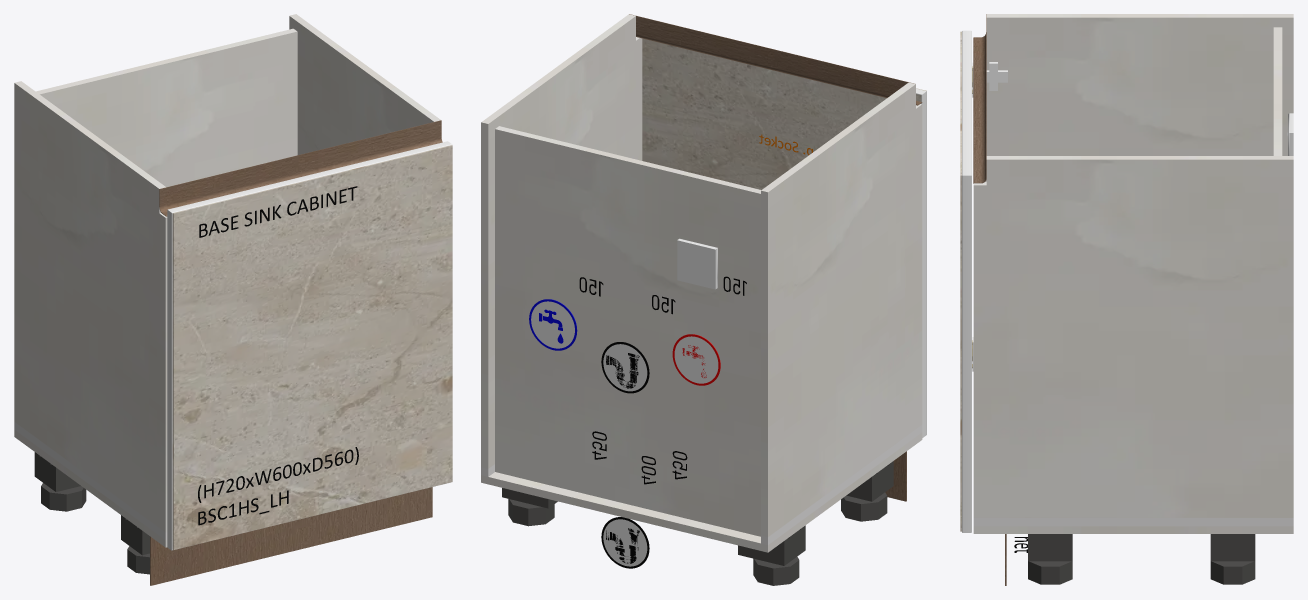
The model's file is BSC1HS_LH_CJ (H720xW600xD560).glb.
3 views of the same model, side by side, from view 1: azimuth 30°, elevation 25°; view 2: azimuth 150°, elevation 25°; view 3: azimuth 270°, elevation 25° (orthographic). The views are drawn at different scales.
Size of what is drawn, in the model's own units: 0.6 by 0.82 by 0.5899.
17 materials, 3 textured.
